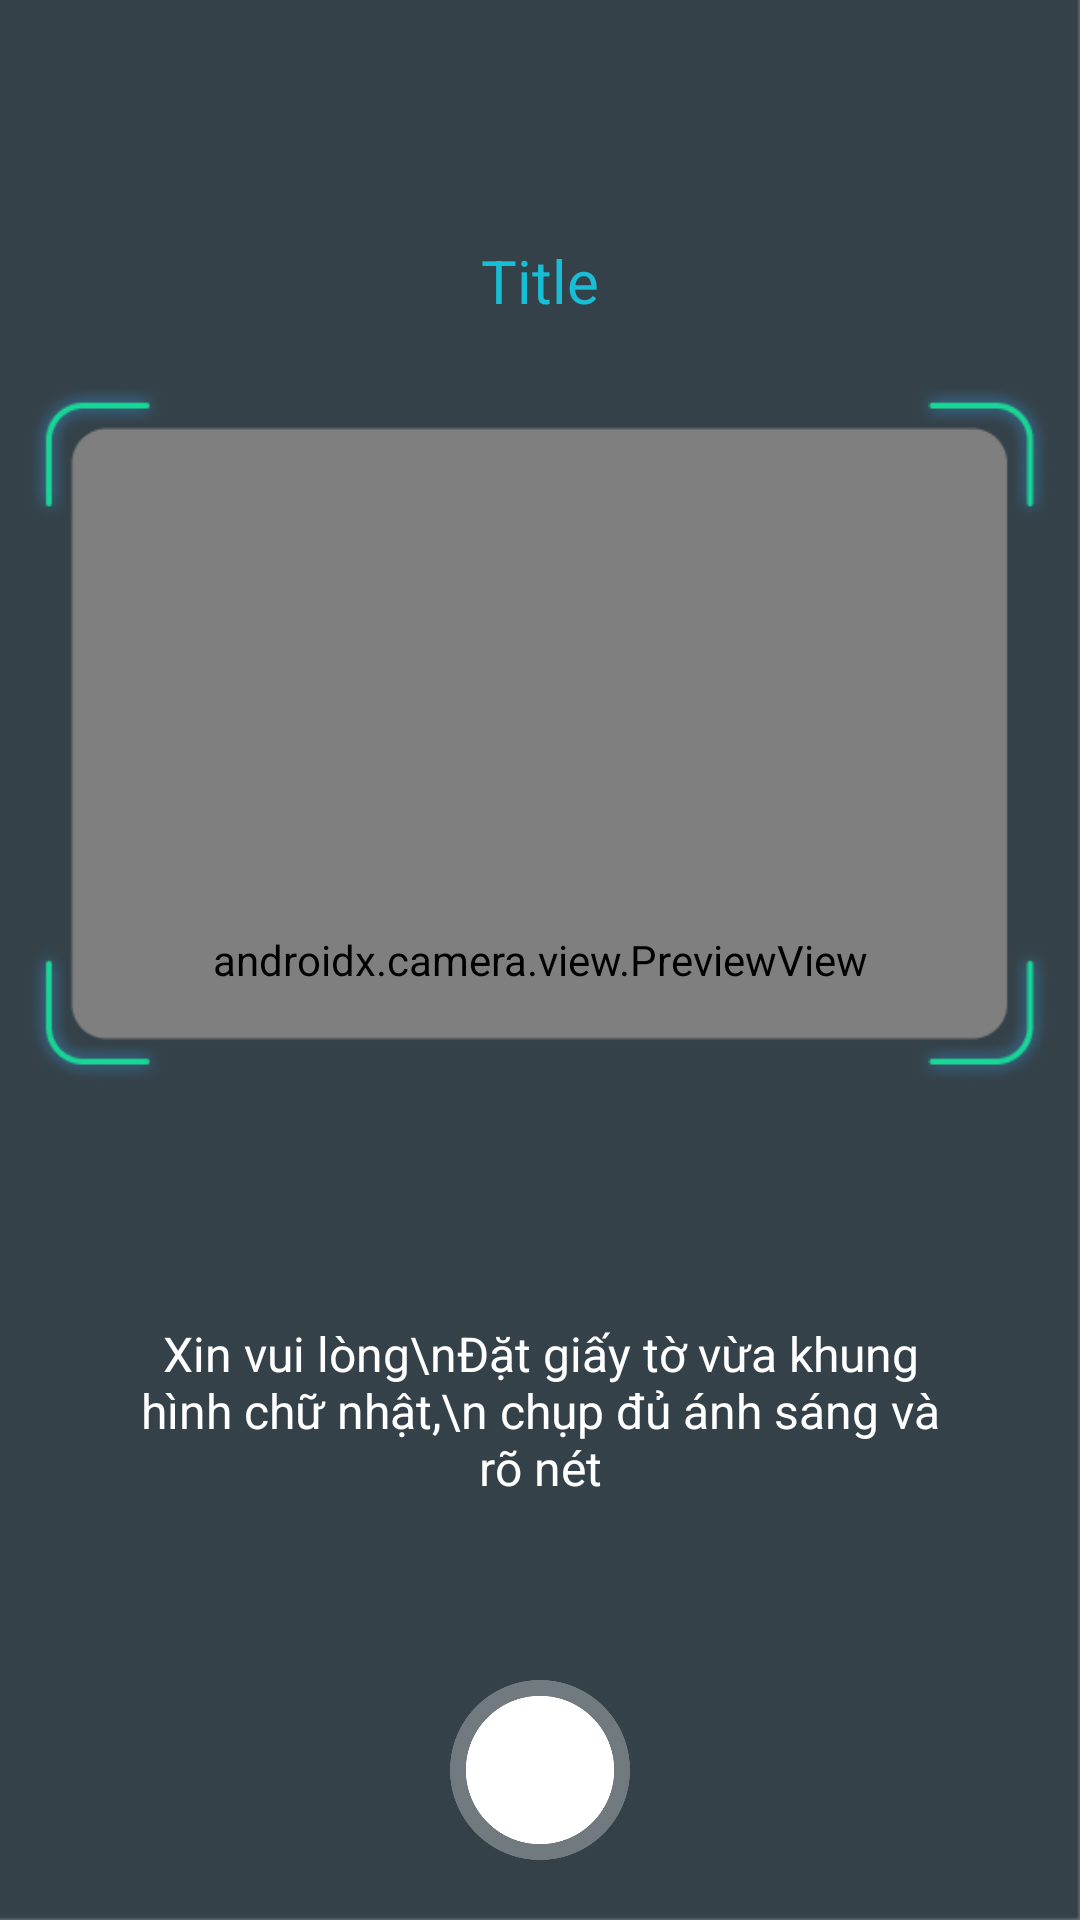

Icons on this 1080w x 1920h Android screen, each with its box as (x1, y1, x2, y2):
capture: (450, 1680, 630, 1860)
